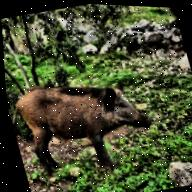boar: (4, 61, 163, 190)
